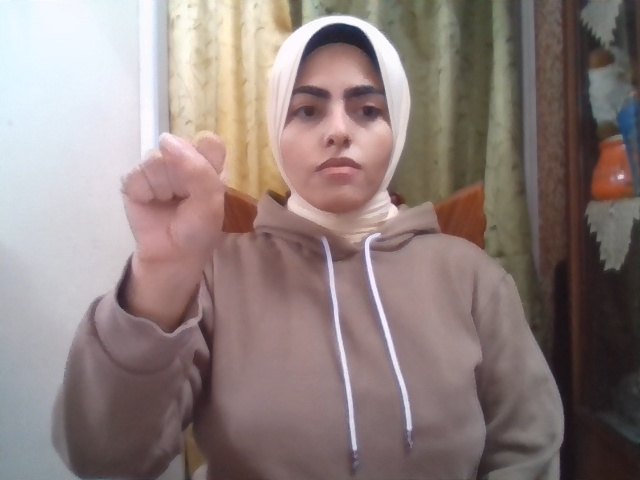S: (118, 130, 227, 267)
